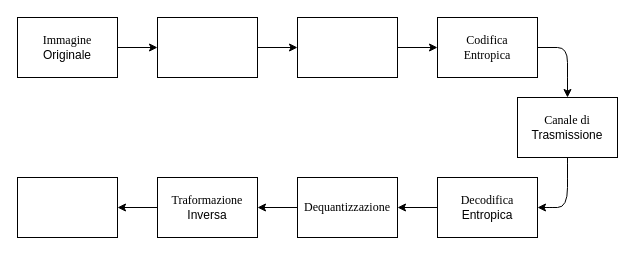
Some shapes in this 635 by 255 pixel diagram are drawn without their labels. The shapes that lost their labels are listed below. From the top down, each one's centre as x and y in pixels, then its label:
At (x=207, y=47): "Trasformazione".
At (x=347, y=47): "Quantizzazione".
At (x=67, y=207): "Immagine Ricorstruita".
